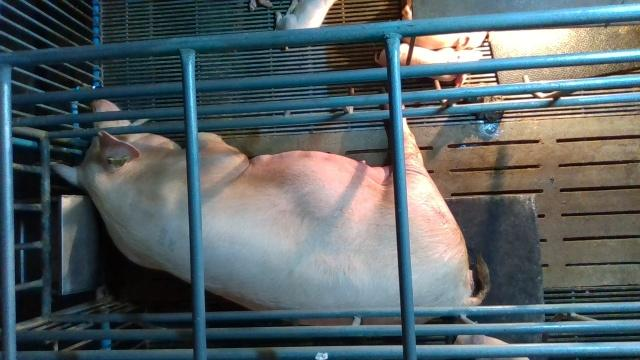piglet: (375, 43, 483, 88), (274, 0, 339, 51), (456, 336, 530, 360)
sow-sleep: (52, 102, 490, 325)
